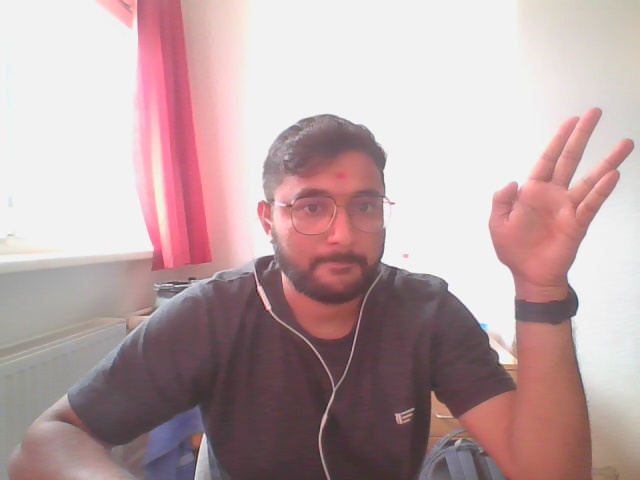LiveLong: (491, 107, 634, 283)
